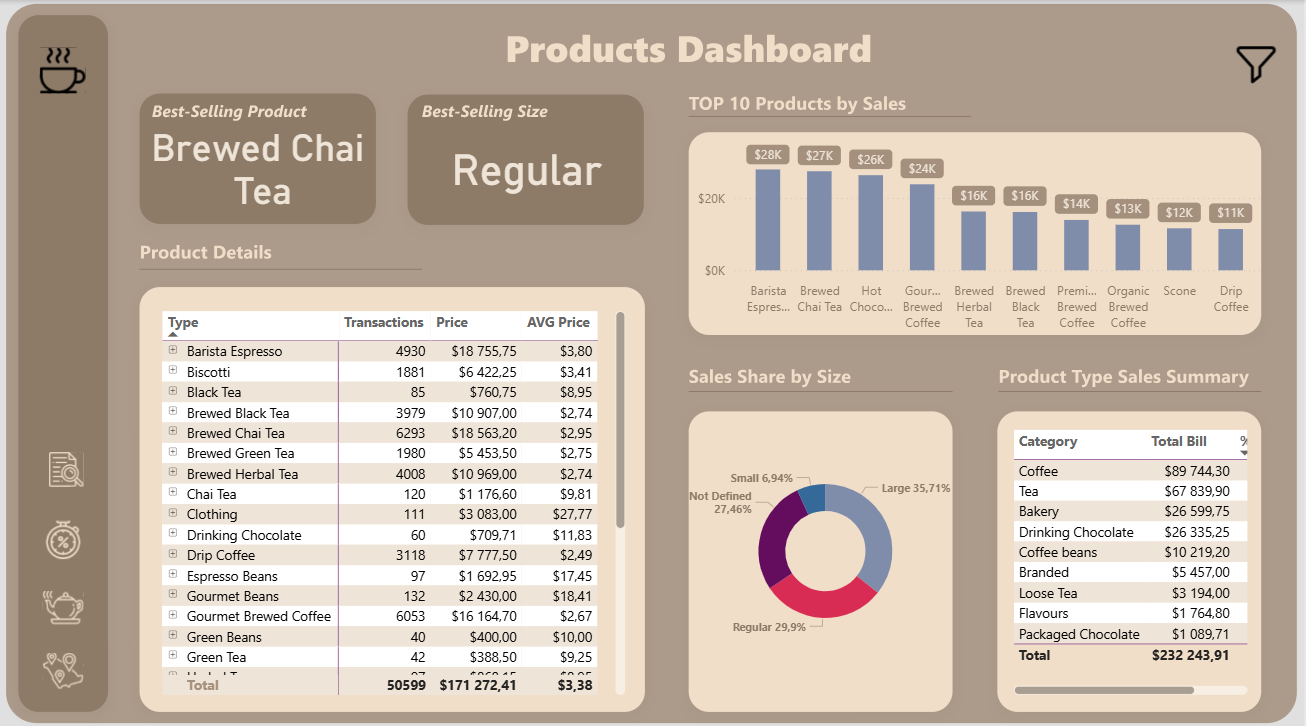

This screenshot's page, from the dashboard's own definition file:
{"tool":"powerbi","page":{"name":"Products Dashboard","canvas":[1280,720],"ordinal":3},"visuals":[{"type":"card","title":"Best Selling Product","fields":{"Values":["Project.Top Selling Product"]},"box":[138.7,110.4,229.4,104.3],"z":0,"group":"g3"},{"type":"pivotTable","title":"Product Details","fields":{"Values":["CountNonNull(Project.ID)","Sum(Project.unit_price)","Avg(Project.unit_price)"],"Rows":["Project.product_type","Project.product_detail"]},"box":[154.6,300.6,463.8,386.5],"z":0,"group":"g4"},{"type":"group","id":"g1","title":"Ribbon Buttons","box":[36.9,439.2,50,243.8],"z":0},{"type":"actionButton","title":"Button L DB","box":[36.9,637.7,50,45.4],"z":0,"group":"g1"},{"type":"group","id":"g2","title":"General Filters","box":[0,0,1280,720.4],"z":1000},{"type":"actionButton","title":"Button Filters","box":[1206.2,35,73.8,53.8],"z":1000,"group":"g2"},{"type":"card","title":"Best Selling Size","fields":{"Values":["Project.Top Selling Size"]},"box":[402.5,121.4,229.4,82.2],"z":1000,"group":"g3"},{"type":"donutChart","title":"Sales Share by Size","fields":{"Category":["Project.Size"],"Y":["Sum(Project.Total_Bill)"]},"box":[670.6,460.5,279.7,186.4],"z":1000,"group":"g4"},{"type":"actionButton","title":"Button P DB","box":[36.9,576.9,50,45.4],"z":1000,"group":"g1"},{"type":"group","id":"g3","title":"KPIs","box":[138.7,110.4,493.3,104.3],"z":2000},{"type":"tableEx","title":"Products Type Sales Summary","fields":{"Values":["Project.product_category","Sum(Project.Total_Bill)","Divide(Sum(Project.Total_Bill), ScopedEval(Sum(Project.Total_Bill), []))"]},"box":[989,417.2,240.5,269.9],"z":2000,"group":"g4"},{"type":"actionButton","title":"Button ST DB","box":[36.9,507.7,50,45.4],"z":2000,"group":"g1"},{"type":"group","id":"g4","title":"Visualizations","box":[154.6,131.3,1092,555.8],"z":3000},{"type":"clusteredColumnChart","title":"TOP 10 Products by Sales","fields":{"Category":["Project.product_type"],"Y":["Sum(Project.Total_Bill)"]},"box":[679.8,131.3,566.9,201.2],"z":3000,"group":"g4"},{"type":"actionButton","title":"Button OD DB","box":[36.9,439.2,50,45.4],"z":3000,"group":"g1"}]}

Visuals, with their boxes in screenshot pixels (x1, y1, x2, y2), scaled from the page's 1280x720 canvas onto the 1306x726 screenshot:
"Best Selling Product" card: (left=142, top=111, right=376, bottom=216)
"Product Details" pivotTable: (left=158, top=303, right=631, bottom=693)
"Ribbon Buttons" group: (left=38, top=443, right=89, bottom=689)
"Button L DB" actionButton: (left=38, top=643, right=89, bottom=689)
"General Filters" group: (left=0, top=0, right=1305, bottom=725)
"Button Filters" actionButton: (left=1231, top=35, right=1305, bottom=90)
"Best Selling Size" card: (left=411, top=122, right=645, bottom=205)
"Sales Share by Size" donutChart: (left=684, top=464, right=970, bottom=652)
"Button P DB" actionButton: (left=38, top=582, right=89, bottom=627)
"KPIs" group: (left=142, top=111, right=645, bottom=216)
"Products Type Sales Summary" tableEx: (left=1009, top=421, right=1254, bottom=693)
"Button ST DB" actionButton: (left=38, top=512, right=89, bottom=558)
"Visualizations" group: (left=158, top=132, right=1272, bottom=693)
"TOP 10 Products by Sales" clusteredColumnChart: (left=694, top=132, right=1272, bottom=335)
"Button OD DB" actionButton: (left=38, top=443, right=89, bottom=489)
